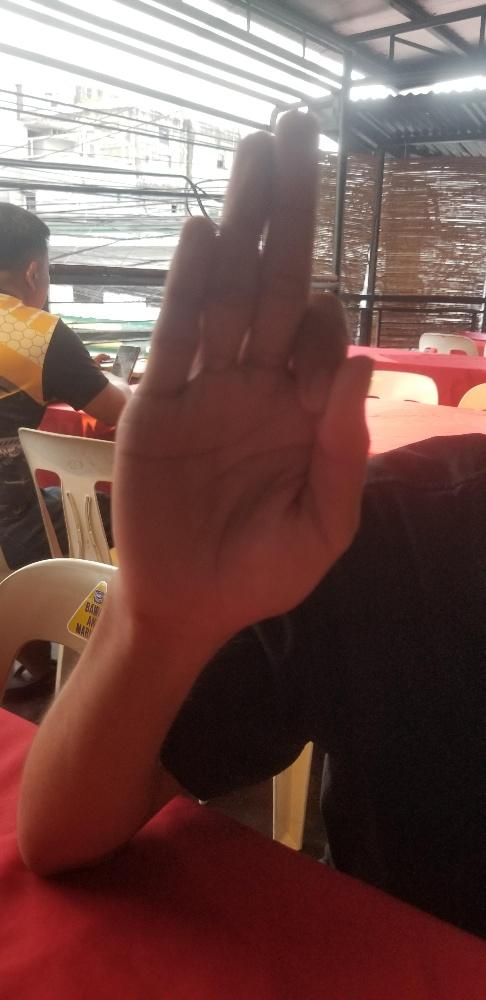f: (108, 102, 376, 645)
